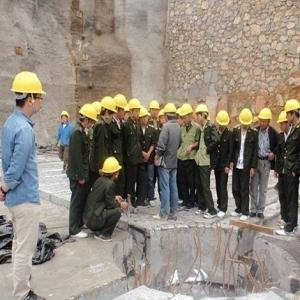yellow: (10, 70, 44, 117), (103, 154, 123, 182), (78, 105, 98, 133), (100, 96, 117, 125), (194, 103, 211, 127), (258, 107, 273, 132), (238, 109, 254, 132), (114, 94, 127, 122), (277, 111, 292, 135), (285, 101, 300, 125), (128, 98, 141, 123), (180, 105, 194, 127), (215, 109, 229, 131), (165, 103, 178, 124), (138, 107, 149, 128), (150, 101, 161, 120), (61, 110, 71, 125)
